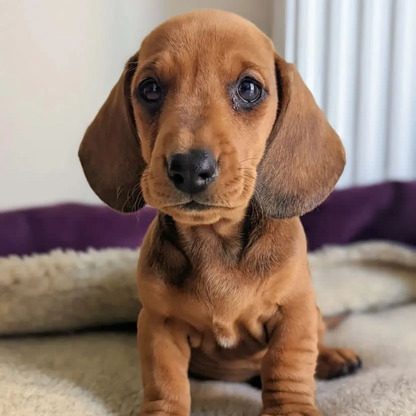dachshund: (79, 10, 372, 385)
